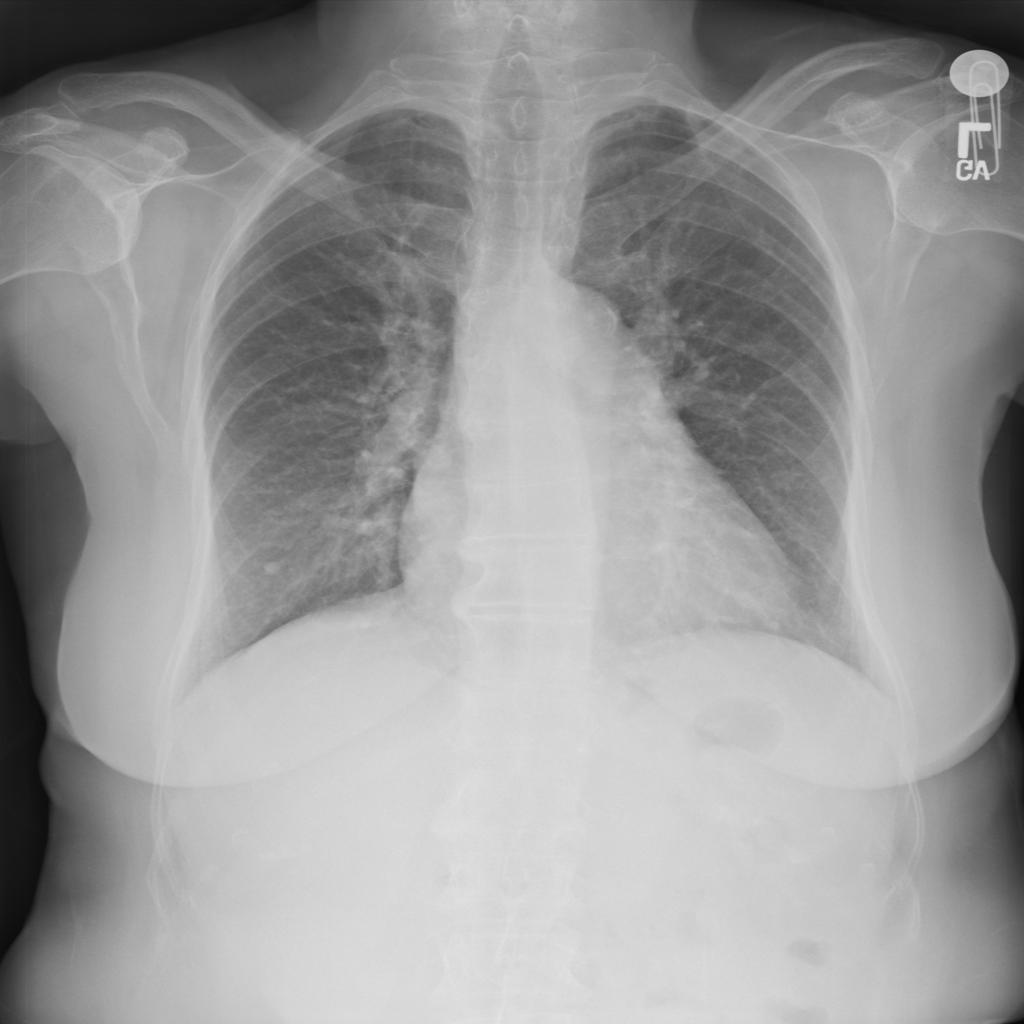nodule: (252, 551, 293, 584)
